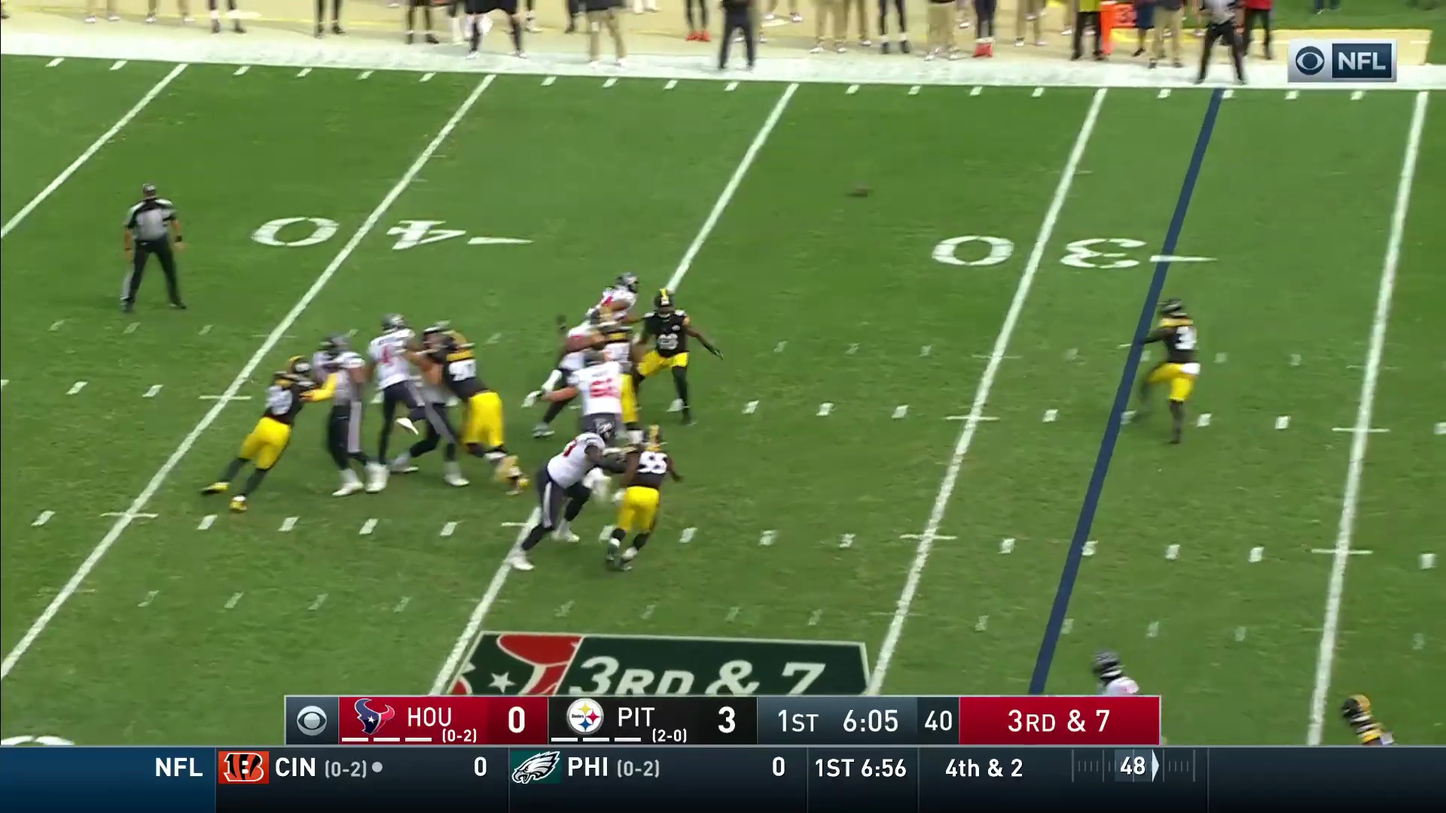Player: (311, 336, 386, 494), (606, 430, 670, 568), (238, 357, 312, 471), (1144, 302, 1200, 443), (369, 314, 421, 464), (443, 335, 505, 458), (415, 328, 462, 461), (588, 273, 638, 366), (333, 338, 367, 472), (578, 355, 625, 439), (265, 356, 313, 432)
